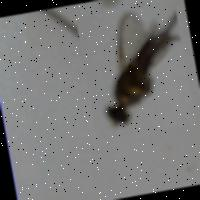Oriental-fruit-fly: (74, 0, 195, 139)
